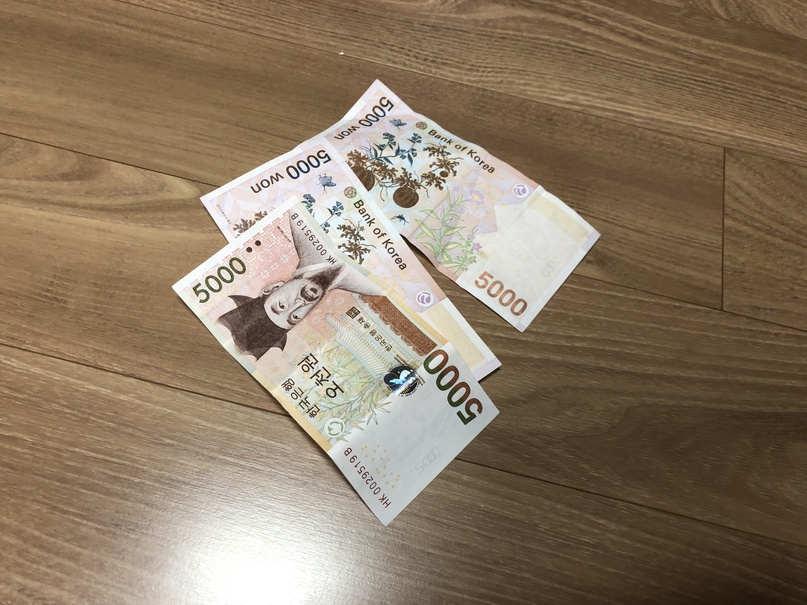5000won: (172, 196, 499, 528)
